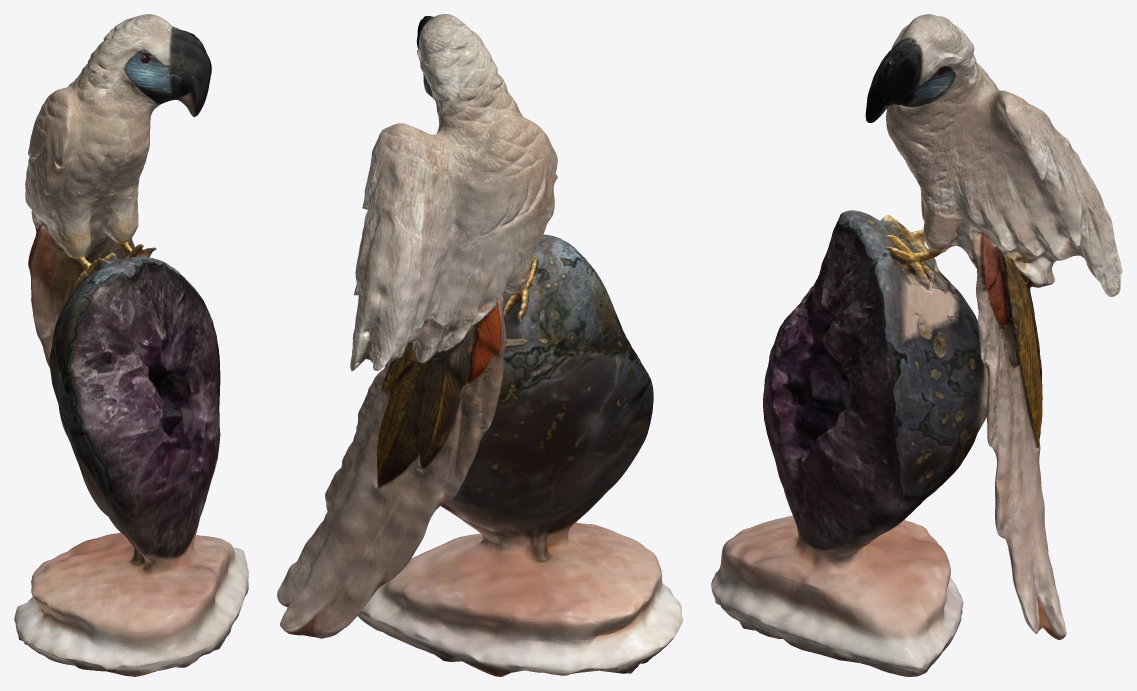
The model's file is sculpture-4k-draco.glb.
3 views of the same model, side by side, from view 1: azimuth 30°, elevation 25°; view 2: azimuth 150°, elevation 25°; view 3: azimuth 270°, elevation 25° (orthographic). The views are drawn at different scales.
Bounding box in the file's own units: 0.4444 × 0.9287 × 0.5517.
1 material, 1 textured.
